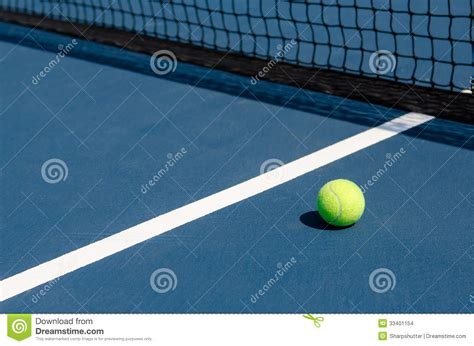tennis_ball: (317, 178, 365, 227)
